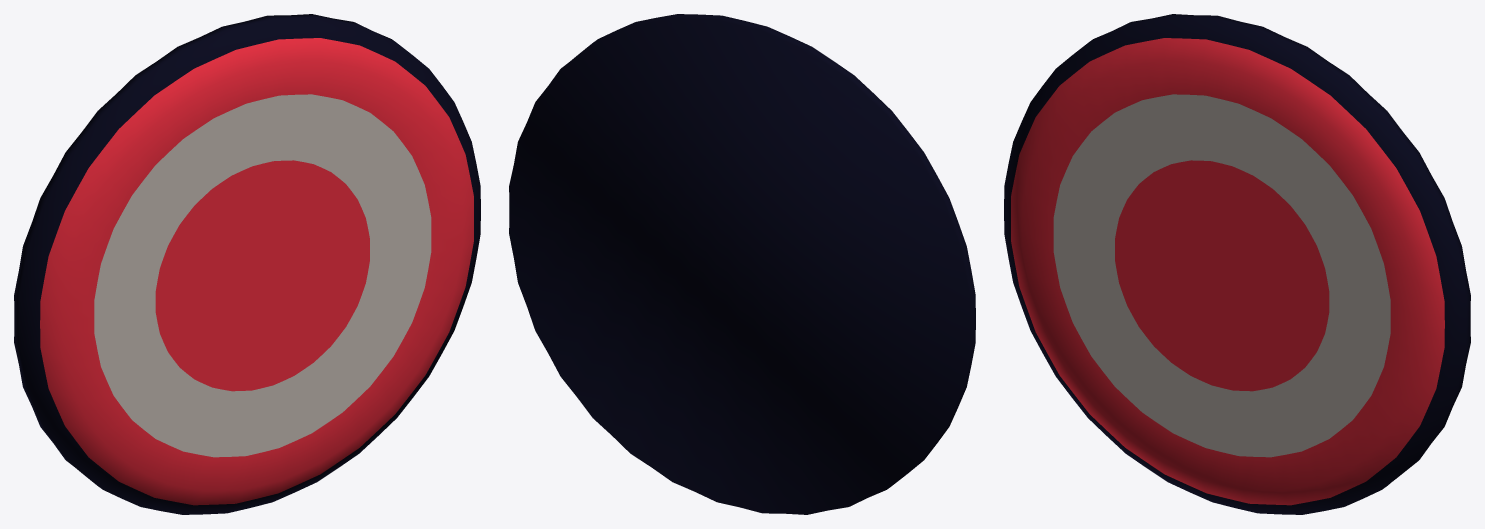
File: bullseye.fbx
The picture shows the model from 3 angles, left to right: view 1: azimuth 30°, elevation 25°; view 2: azimuth 150°, elevation 25°; view 3: azimuth 330°, elevation 25°; orthographic projection.
Parts seen in each view (by area): view 1: Cylinder; view 2: Cylinder; view 3: Cylinder.
Part boxes in pixels (x1=…): Cylinder: x1=14, y1=14, x2=480, y2=514; Cylinder: x1=509, y1=14, x2=975, y2=514; Cylinder: x1=1004, y1=14, x2=1470, y2=514.
Bounding box in the file's own units: 198 × 198 × 13.47.
